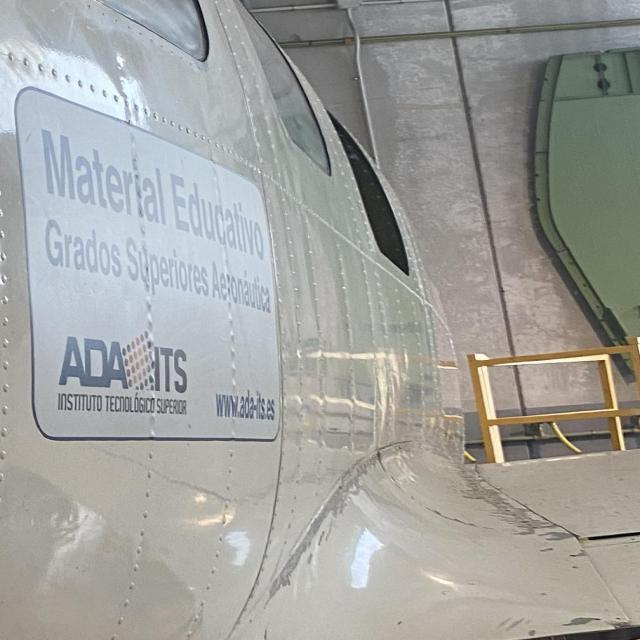Crack: (233, 606, 289, 640), (607, 615, 640, 632)
Paint-off: (558, 613, 602, 631), (527, 629, 536, 637)
Scratch: (261, 456, 380, 599), (449, 473, 570, 540)
